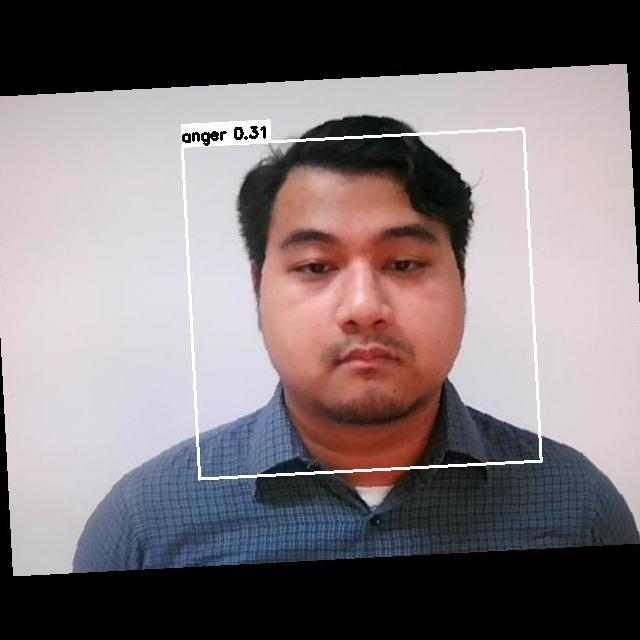Natural: (250, 220, 481, 405)
